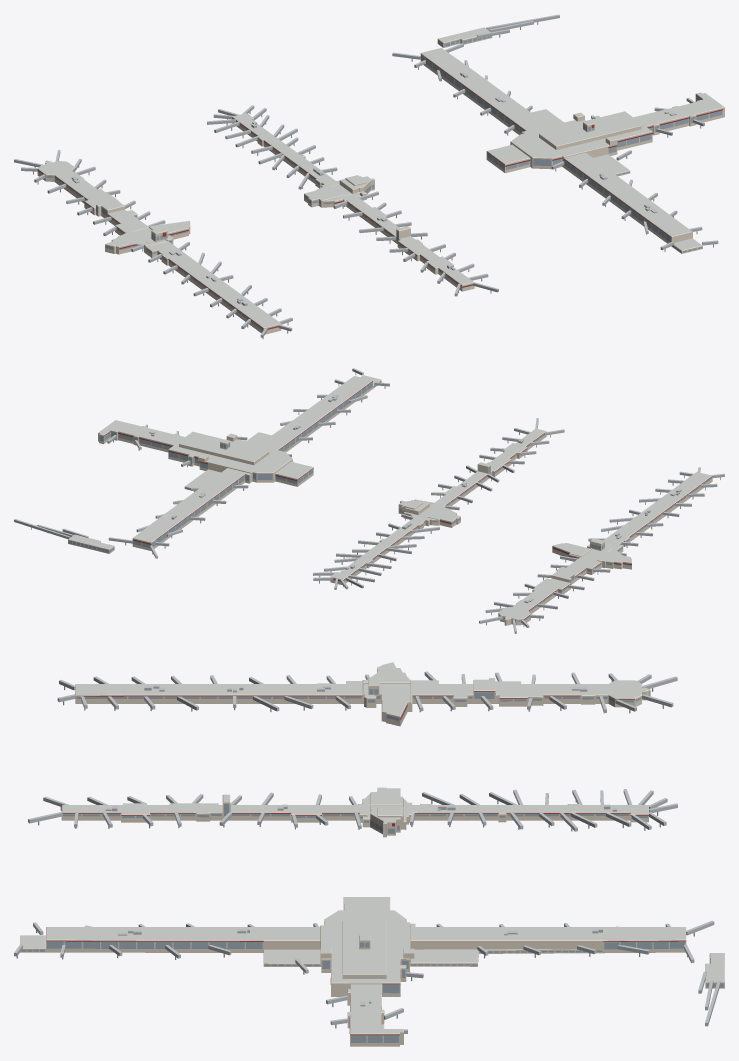
File: atl-hartsfield-jackson-concourses-c-d-e.glb
3 views of the same model, one above another, from view 1: azimuth 30°, elevation 25°; view 2: azimuth 150°, elevation 25°; view 3: azimuth 270°, elevation 25° (orthographic). The views are drawn at different scales.
Parts seen in each view (by area): view 1: Hartsfield-Jackson Concourses C, D and E; view 2: Hartsfield-Jackson Concourses C, D and E; view 3: Hartsfield-Jackson Concourses C, D and E.
Part boxes in pixels (bbox=[...]): Hartsfield-Jackson Concourses C, D and E: bbox=[14, 14, 724, 339]; Hartsfield-Jackson Concourses C, D and E: bbox=[14, 368, 724, 633]; Hartsfield-Jackson Concourses C, D and E: bbox=[14, 662, 724, 1046].
Size of the model in its own units: 963 by 33.6 by 772.
